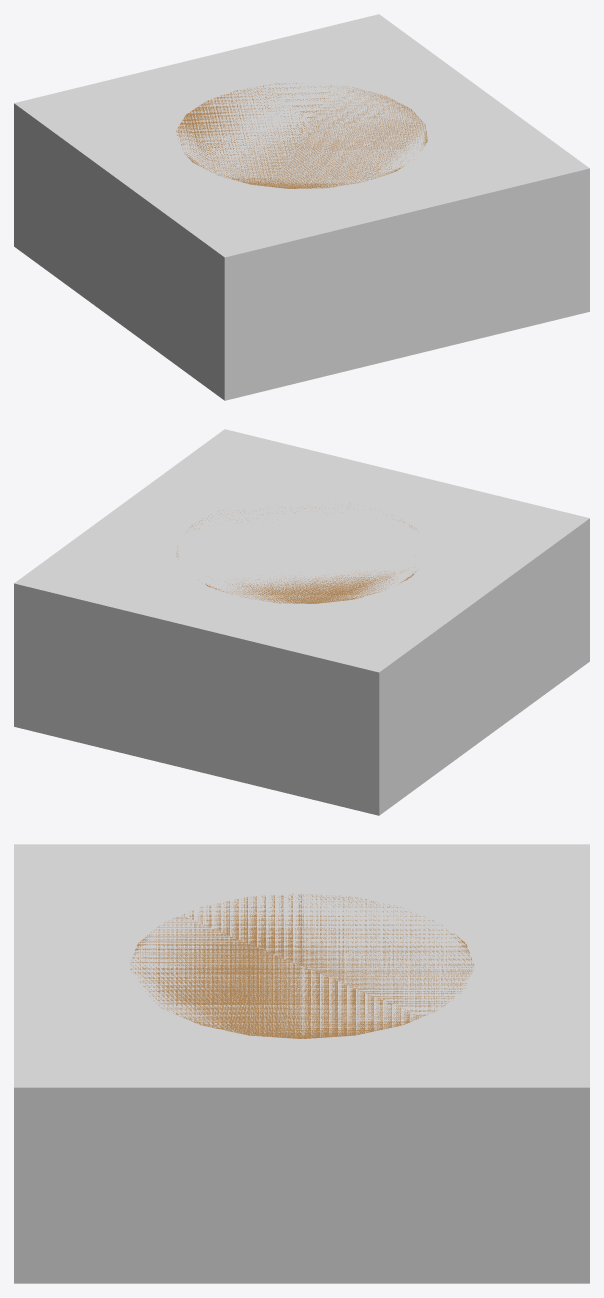
Rendered from ceiling-flush_retail.glb.
3 views of the same model, one above another, from view 1: azimuth 30°, elevation 25°; view 2: azimuth 150°, elevation 25°; view 3: azimuth 270°, elevation 25° (orthographic). The views are drawn at different scales.
Visible parts, largest first — view 1: COL_ceiling-flush, MESH_CeilingCanopy; view 2: COL_ceiling-flush, MESH_CeilingCanopy; view 3: COL_ceiling-flush, MESH_CeilingCanopy.
Part boxes in pixels (x1,y1,x2,y2): COL_ceiling-flush: [14, 14, 589, 400]; MESH_CeilingCanopy: [176, 83, 427, 188]; COL_ceiling-flush: [14, 429, 589, 815]; MESH_CeilingCanopy: [176, 507, 416, 603]; COL_ceiling-flush: [14, 844, 589, 1283]; MESH_CeilingCanopy: [130, 893, 474, 1038].
Bounding box in the file's own units: 0.48 × 0.18 × 0.48.
